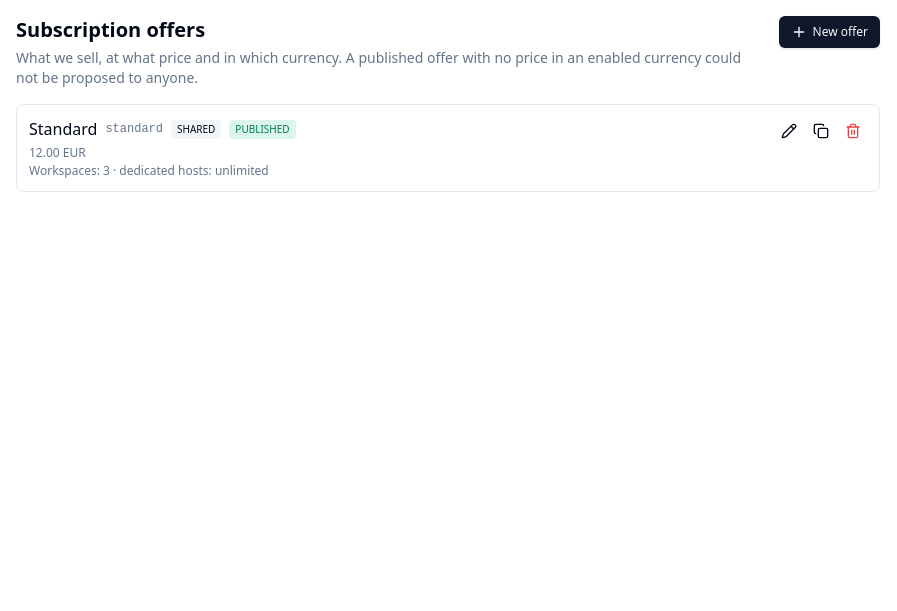
Test case: OfferEditor — profils de host › liste les profils de l'offre dans leur ordre de priorite
The width and height of the screenshot is (897, 611).
Click the button named "Edit offer" at (789, 131), box [775,117,803,145]
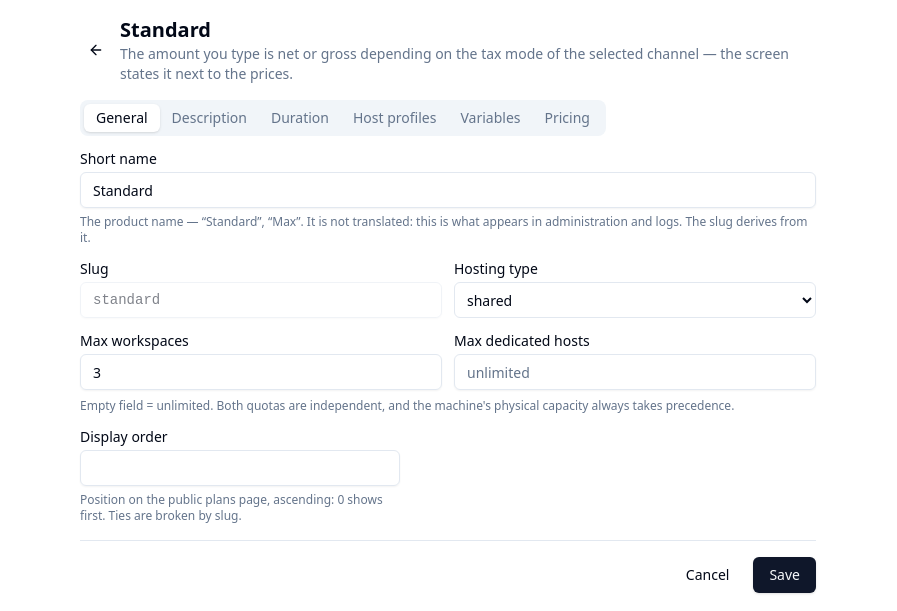
Click the tab "Host profiles" at (395, 118), box [341,104,448,132]
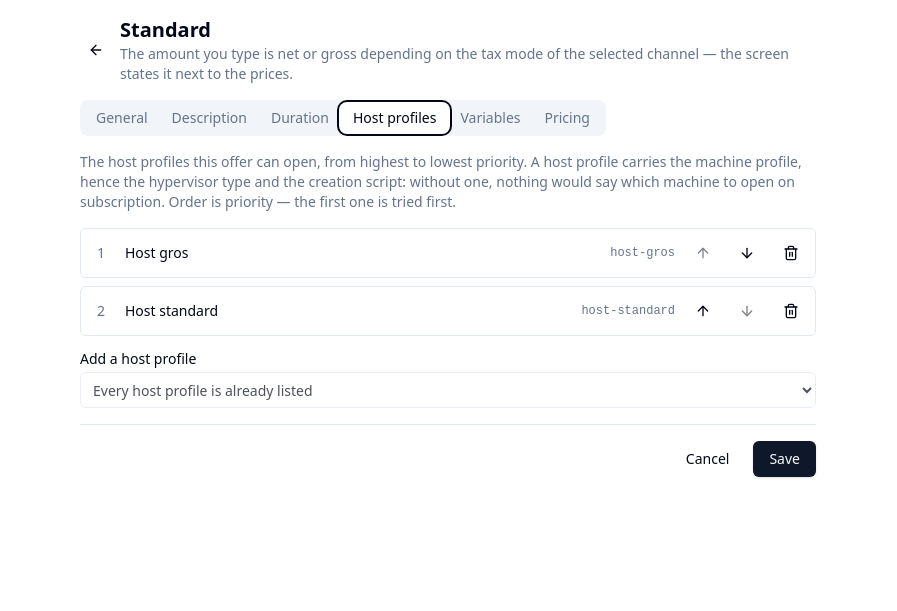
Expected: the list item with test id "^profil-host-" shows "1", [97,243,105,262]
Expected: the list item with test id "^profil-host-" shows "2", [97,301,105,320]
